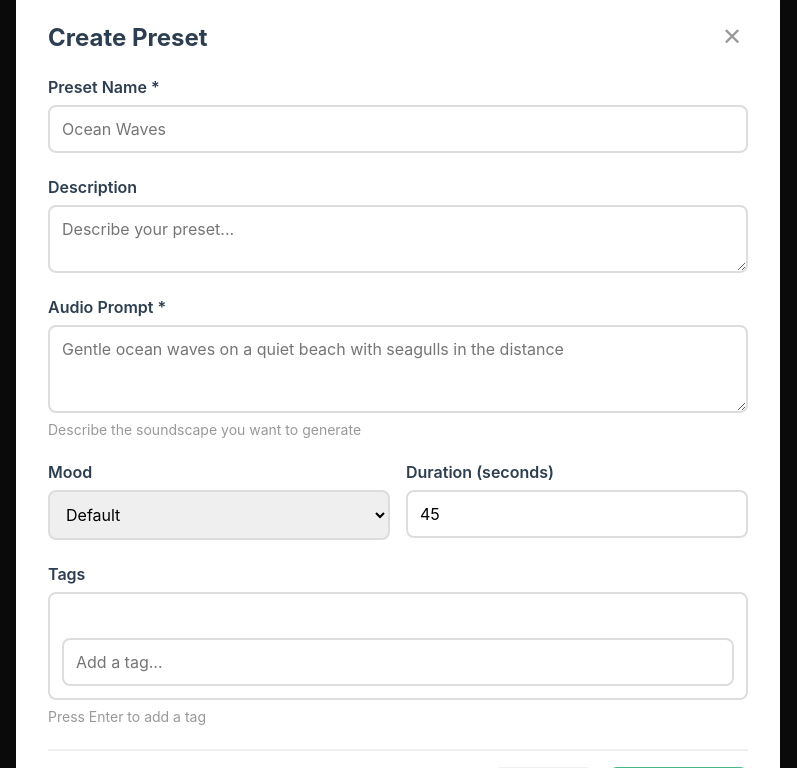
Scenario: PresetEditor › disables save button while saving
Type "Test" into the field with id "name". click: (398, 129)
box: [48,105,748,153]
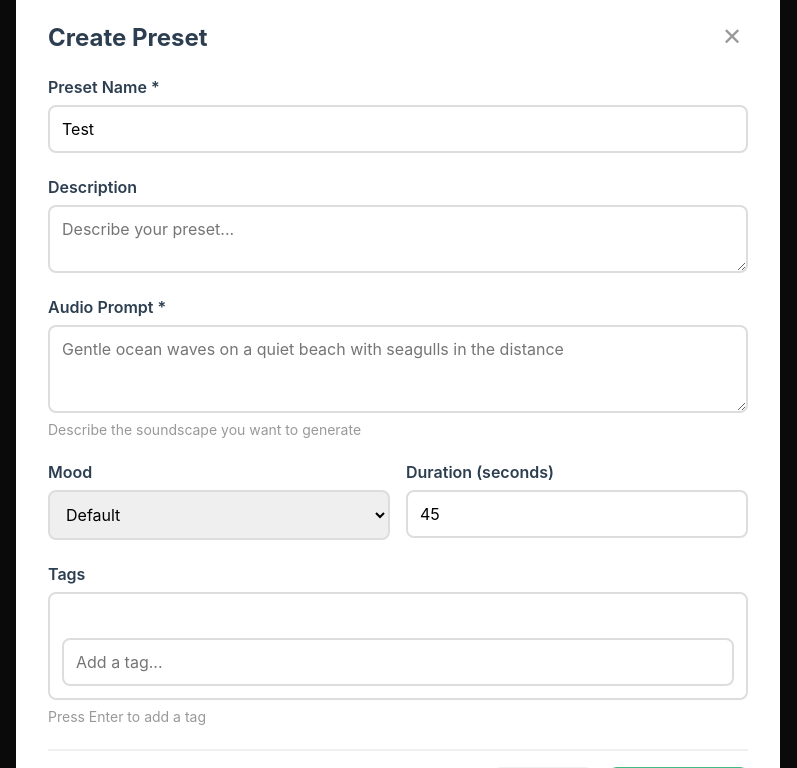
Replace the text in the text box labelled "Audio Prompt *" with "Test". click: (398, 369)
box: [48,325,748,413]
(page scrolled)
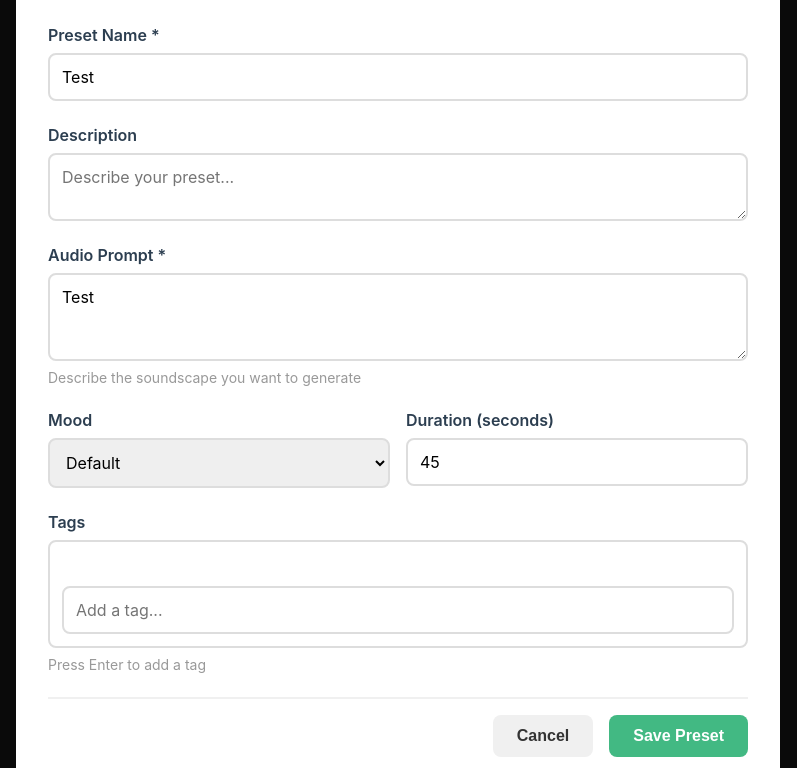
Submit the form
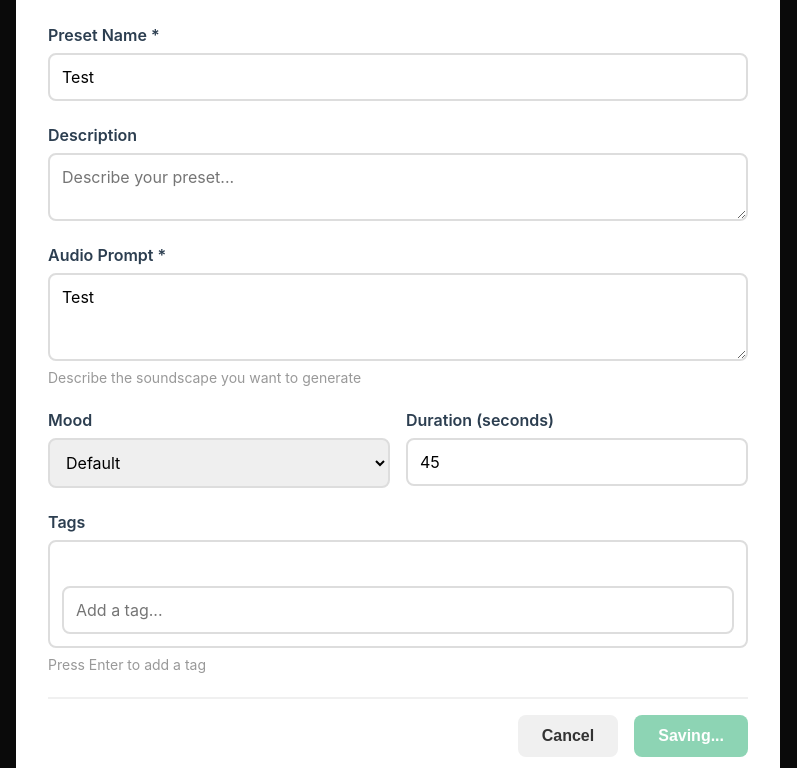
Expected: the button "Saving..." is disabled, [634,715,748,757]
Expected: the button "Saving..." is shown, [634,715,748,757]
